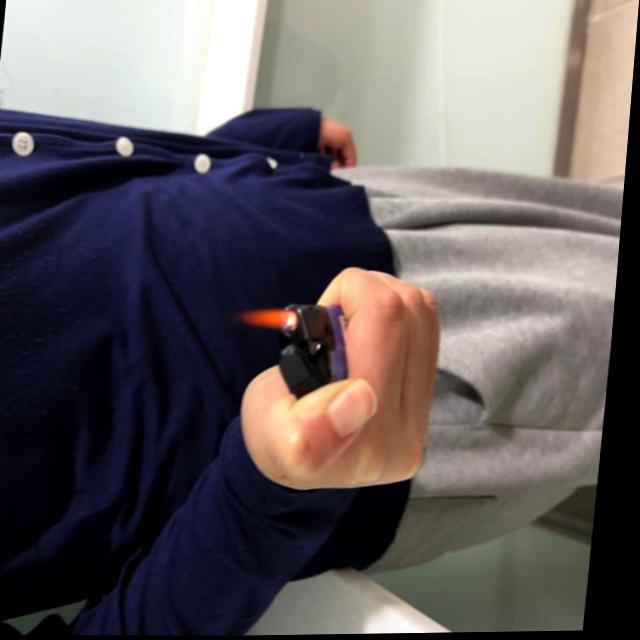Fire: (235, 306, 306, 332)
